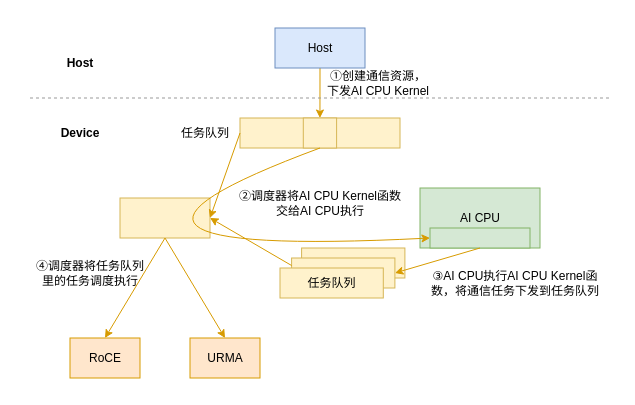
Image size: 635x405. Some labels were removed from this diagram. Here are the shapes that lost their labels. From the top down, the centre of each, then its label:
At [164,217]: "调度器".
At [479,237]: "AI CPU Kernel".
